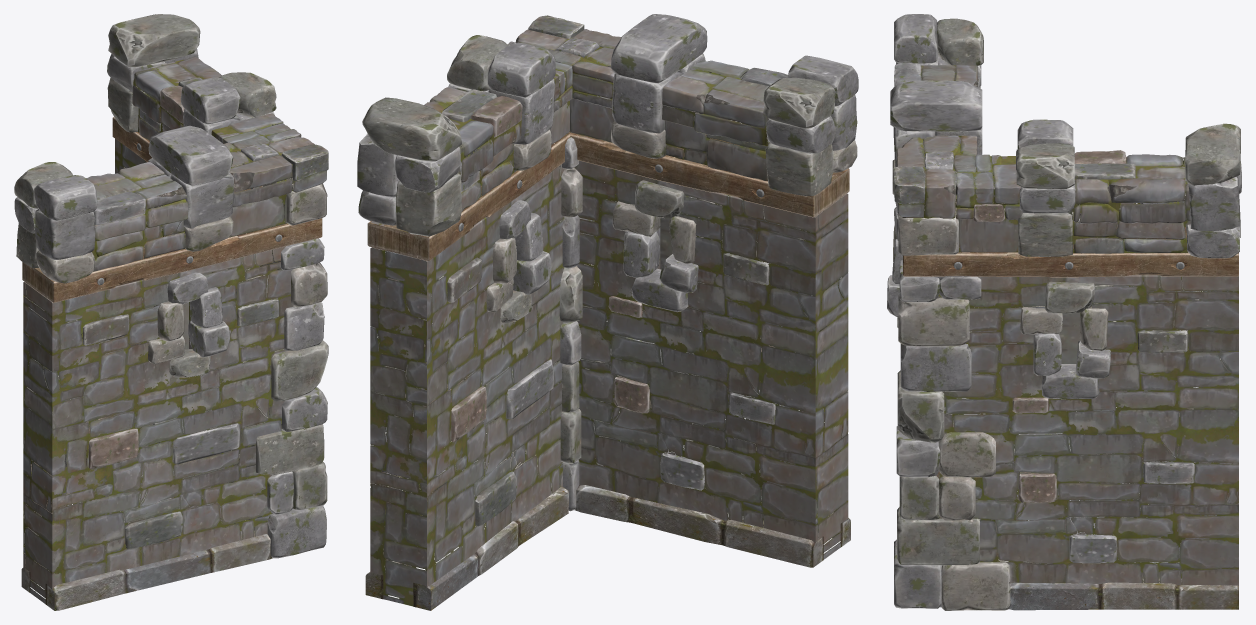
3 renders of one model, left to right at view 1: azimuth 30°, elevation 25°; view 2: azimuth 150°, elevation 25°; view 3: azimuth 270°, elevation 25°, orthographic. The views are drawn at different scales.
Visible parts, largest first — view 1: SM_Castle_Wall_Corner_4x6_01_v1_LOD0; view 2: SM_Castle_Wall_Corner_4x6_01_v1_LOD0; view 3: SM_Castle_Wall_Corner_4x6_01_v1_LOD0.
Boxes of the visible parts, left/top/right/bottom form: SM_Castle_Wall_Corner_4x6_01_v1_LOD0: left=14, top=14, right=328, bottom=610; SM_Castle_Wall_Corner_4x6_01_v1_LOD0: left=357, top=14, right=858, bottom=610; SM_Castle_Wall_Corner_4x6_01_v1_LOD0: left=887, top=14, right=1241, bottom=610.
Bounding box in the file's own units: 4.26 × 6.05 × 4.27.
Materials: 6 (6 with a texture image).
